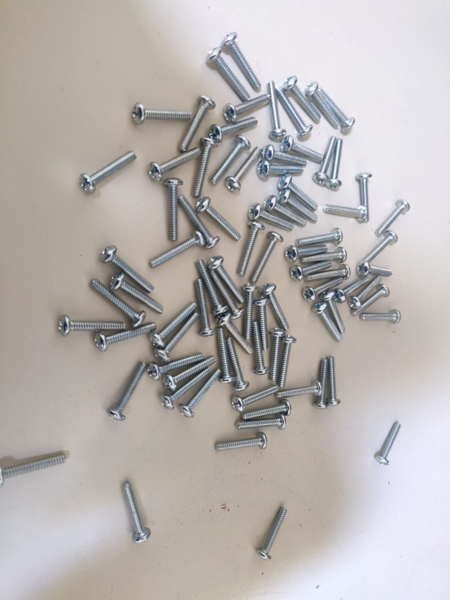longscrew: (101, 249, 155, 295), (78, 149, 135, 192), (145, 137, 202, 180), (91, 281, 145, 324), (151, 298, 197, 347), (155, 314, 200, 363), (109, 362, 146, 421), (112, 276, 167, 314), (208, 137, 253, 183), (181, 370, 222, 420), (227, 34, 265, 87), (92, 324, 159, 353), (180, 196, 217, 248), (0, 454, 64, 484), (162, 370, 211, 409), (61, 311, 128, 339), (210, 52, 249, 100), (275, 86, 312, 135), (284, 77, 321, 126), (308, 83, 345, 132), (186, 139, 218, 195), (321, 83, 358, 131), (180, 95, 211, 151), (260, 506, 292, 559), (149, 235, 202, 267), (226, 146, 262, 193), (131, 104, 191, 132), (255, 233, 285, 287), (234, 222, 264, 276), (124, 482, 150, 544), (201, 201, 242, 240), (149, 349, 203, 378), (165, 359, 219, 388), (211, 257, 244, 302), (210, 274, 243, 319), (220, 315, 256, 356), (264, 284, 294, 333), (224, 339, 251, 393), (198, 262, 226, 314), (193, 282, 219, 336), (209, 331, 235, 385), (208, 117, 258, 145), (281, 177, 321, 212), (281, 190, 321, 225), (221, 93, 269, 122), (266, 194, 306, 228), (253, 201, 293, 235), (378, 198, 412, 236), (365, 230, 399, 268), (376, 417, 402, 466), (313, 137, 339, 186), (232, 386, 278, 412), (315, 302, 342, 345), (325, 291, 348, 338), (166, 178, 182, 245), (267, 81, 285, 140), (213, 433, 267, 452), (356, 285, 390, 315), (351, 278, 384, 308), (335, 276, 370, 304), (269, 327, 285, 386), (323, 204, 371, 223), (298, 227, 346, 246), (284, 242, 332, 261), (304, 247, 352, 266), (286, 262, 334, 281), (303, 280, 344, 302), (281, 337, 299, 387), (261, 146, 309, 164), (306, 267, 354, 285), (239, 402, 292, 418), (240, 402, 292, 418), (330, 139, 346, 190), (281, 139, 326, 157), (258, 162, 305, 179), (326, 357, 341, 408), (317, 362, 332, 413), (258, 295, 270, 356), (255, 320, 267, 381), (245, 283, 257, 344), (274, 384, 325, 398), (360, 169, 372, 224), (355, 262, 397, 275), (361, 313, 403, 324)
